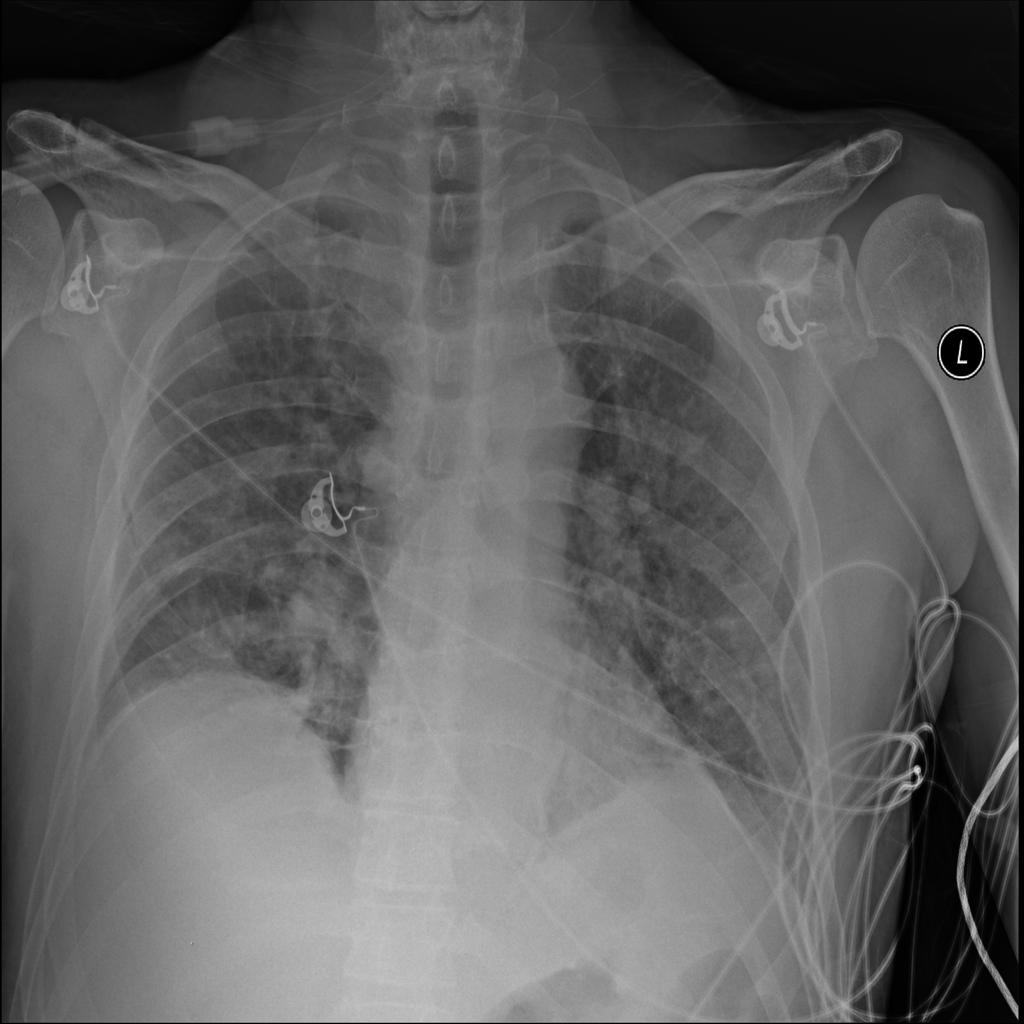nodule: (621, 467, 664, 526)
